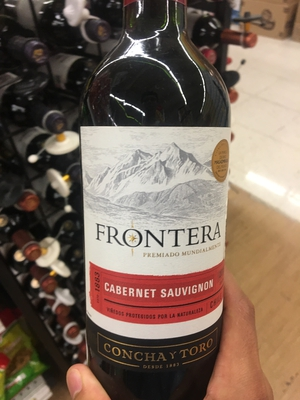frontera cabernet sauvignon: (77, 11, 245, 373)
